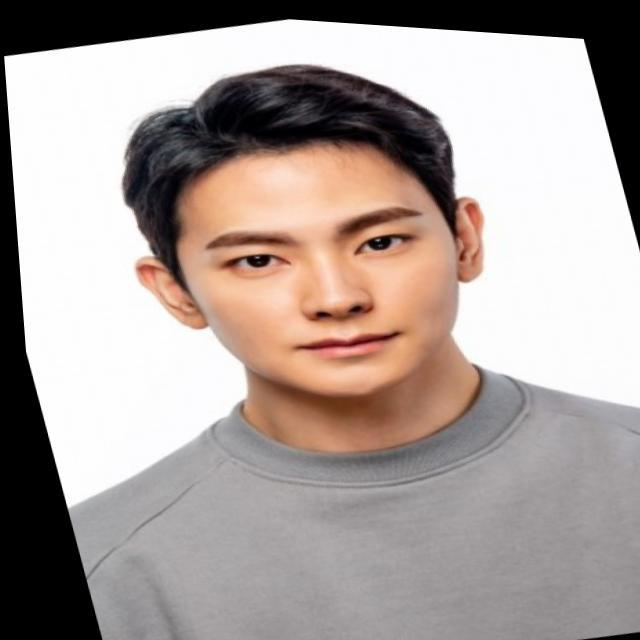Nonhelmet: (117, 60, 490, 401)
